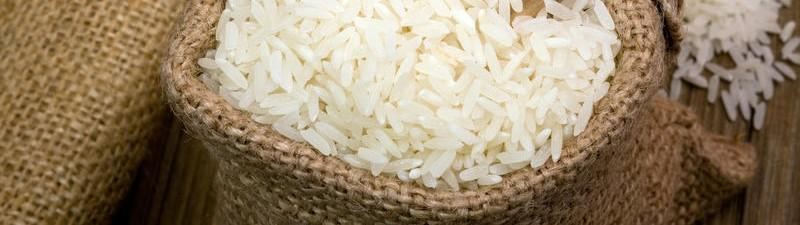WhiteRice: (197, 0, 623, 193)
